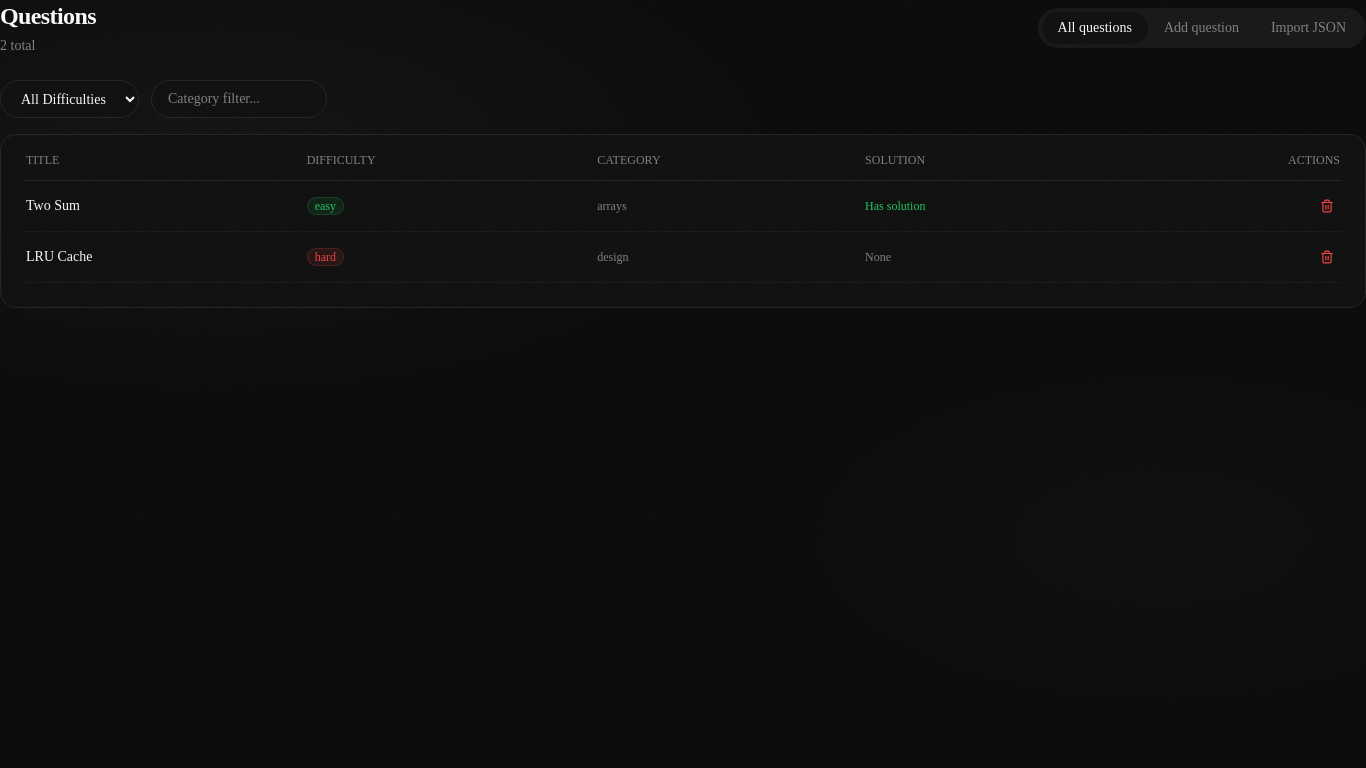
Test: Admin questions page › switches list, create and import through pill tabs
Expected: the text "Two Sum" is shown, [25,180,306,232]
Click the tab "Add question".
click(1201, 28)  # box [1148,12,1255,44]
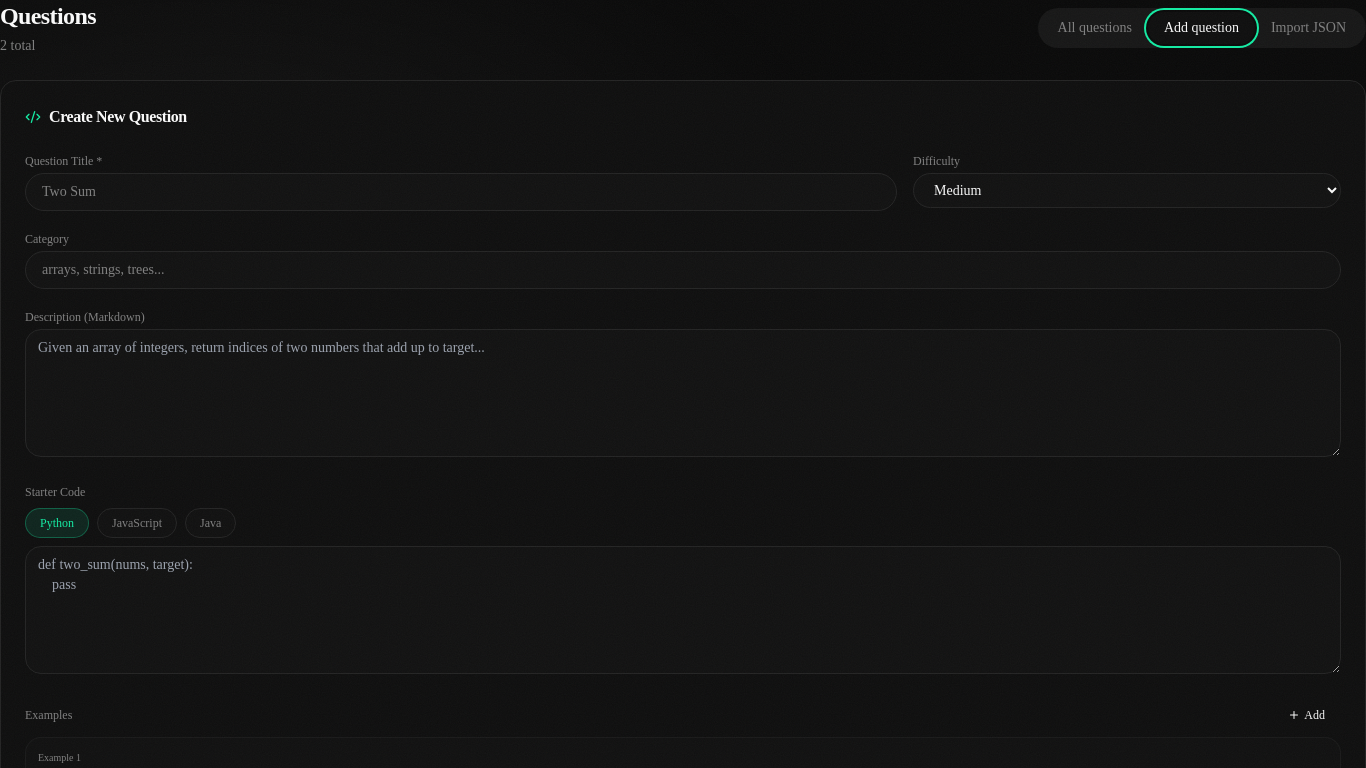
Expected: the field with placeholder "Two Sum" is shown, [25,173,897,211]
// Import tab reveals the JSON import panel.
Click the tab "Import JSON".
click(1308, 28)  # box [1255,12,1362,44]
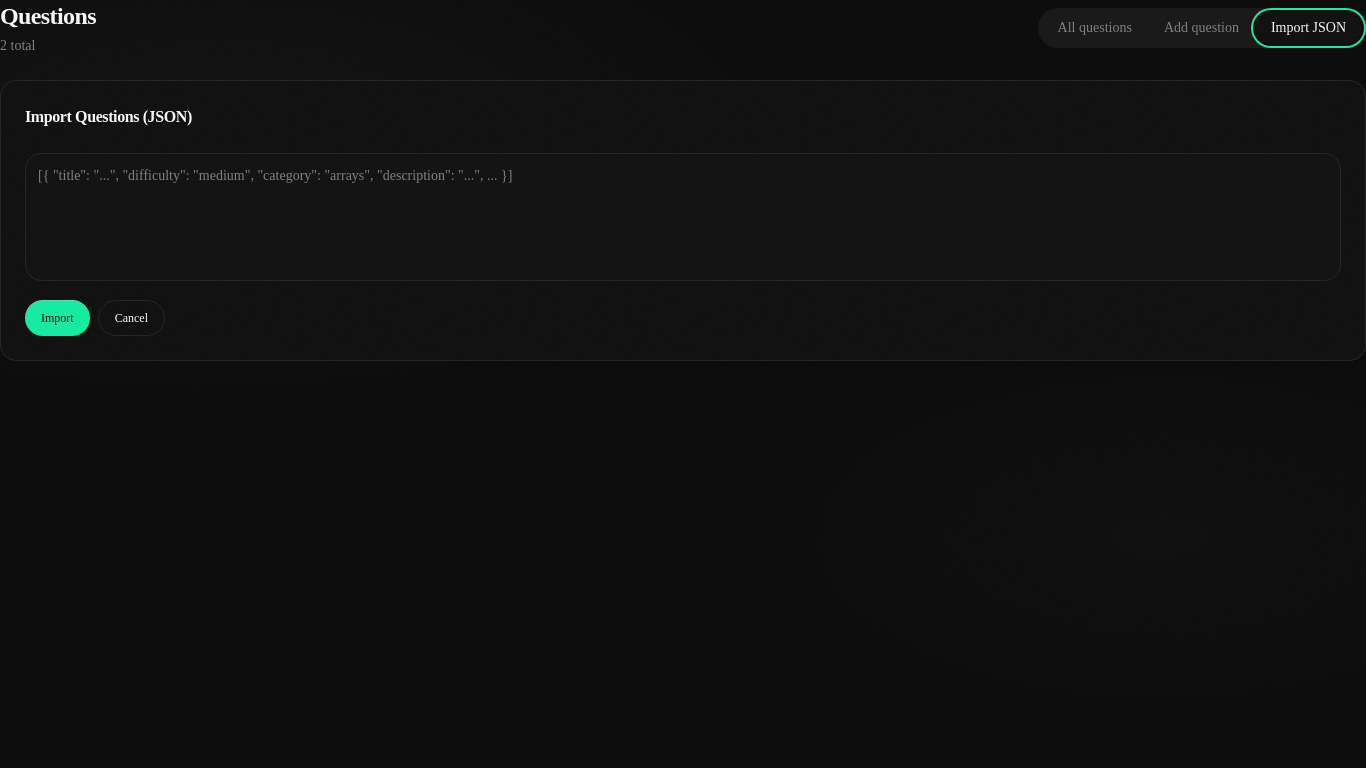
Expected: the text box with placeholder "[{ \"title\"" is shown, [25,153,1341,281]
